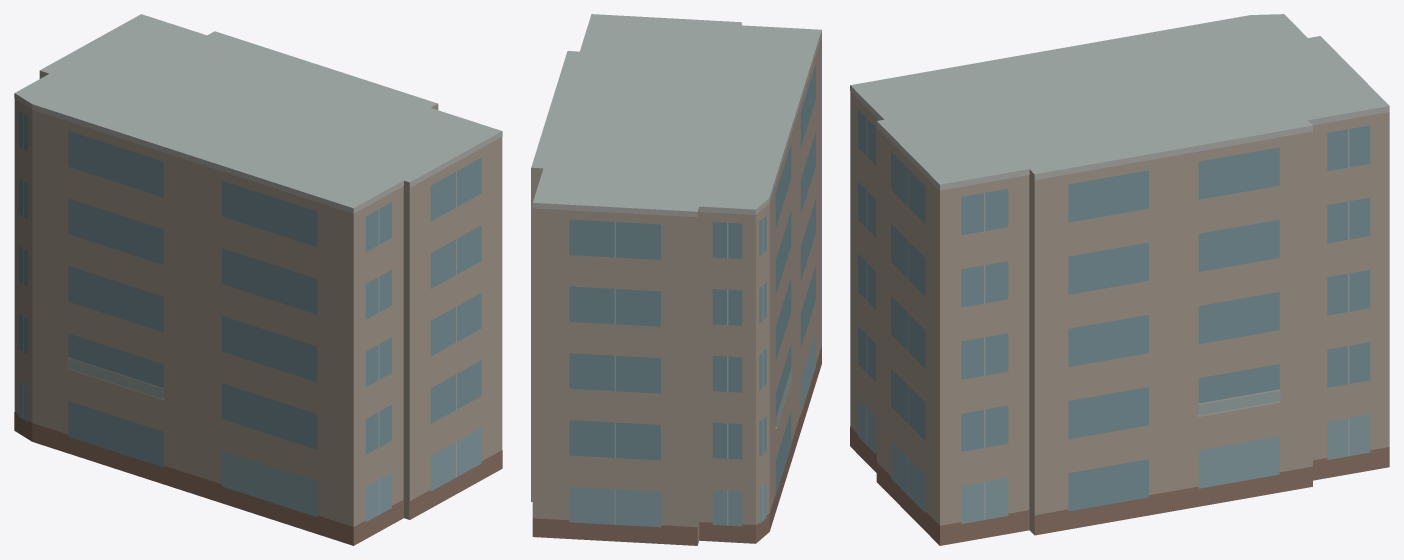
File: survey-upis-32794056.glb
3 views of the same model, side by side, from view 1: azimuth 30°, elevation 25°; view 2: azimuth 150°, elevation 25°; view 3: azimuth 270°, elevation 25° (orthographic). The views are drawn at different scales.
Parts seen in each view (by area): view 1: survey-upis-32794056.tmp; view 2: survey-upis-32794056.tmp; view 3: survey-upis-32794056.tmp.
Part boxes in pixels (x1,y1,x2,y2): survey-upis-32794056.tmp: (14,14,502,545); survey-upis-32794056.tmp: (531,14,821,545); survey-upis-32794056.tmp: (850,14,1389,545).
Bounding box in the file's own units: 15.07 × 14.85 × 20.12.
